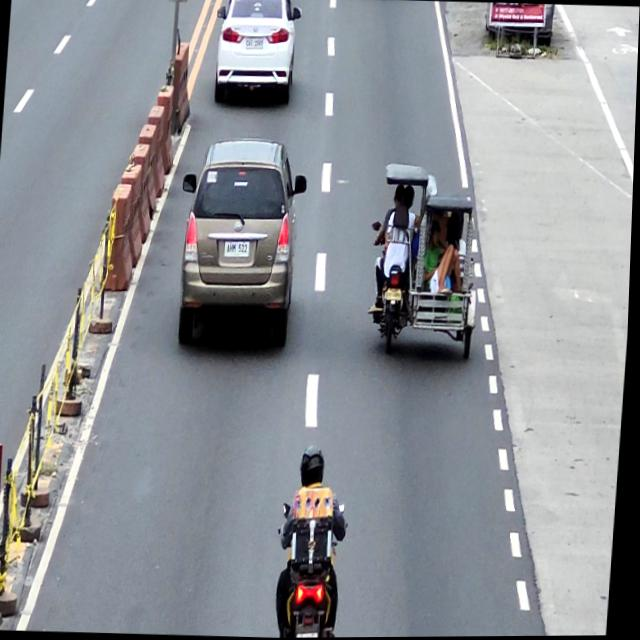Car: (174, 139, 311, 353), (211, 0, 303, 108)
License-Plate: (224, 240, 251, 257), (245, 37, 263, 50), (388, 287, 404, 301)
Motorcycle: (277, 500, 347, 638)
Tricycle: (366, 162, 488, 363)
